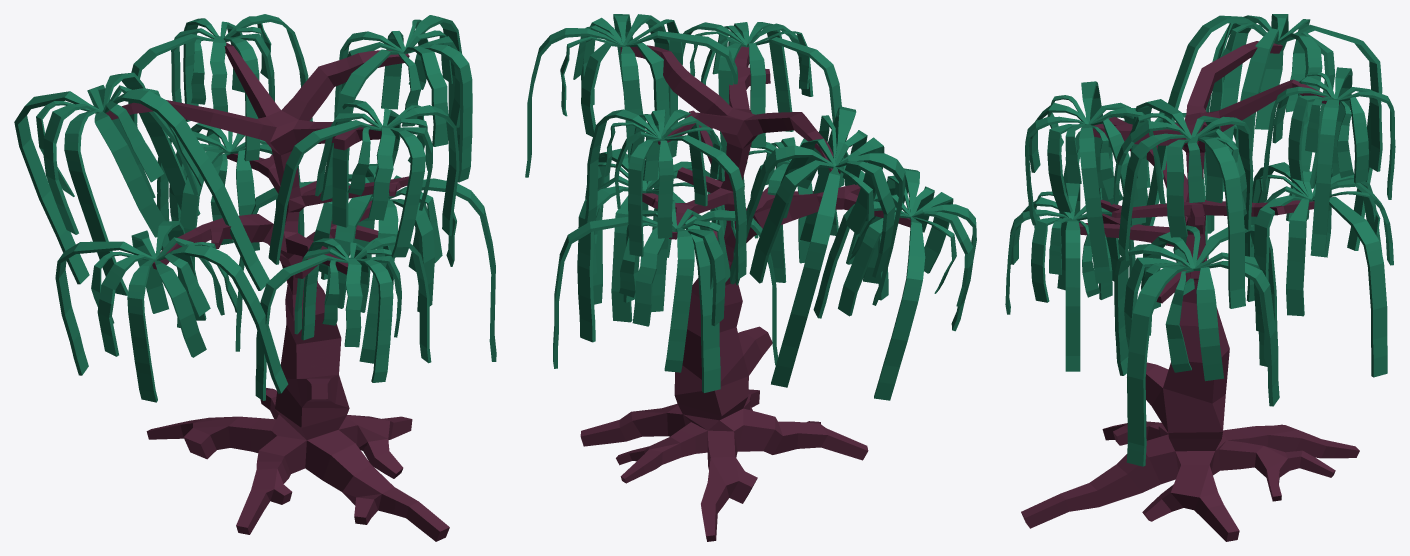
File: treeWillow_001_grp.fbx
The picture shows the model from 3 angles, left to right: view 1: azimuth 30°, elevation 25°; view 2: azimuth 150°, elevation 25°; view 3: azimuth 270°, elevation 25°; orthographic projection. The views are drawn at different scales.
Visible parts, largest first — view 1: treeWillow_001_grp; view 2: treeWillow_001_grp; view 3: treeWillow_001_grp.
Boxes of the visible parts, x1=… form: treeWillow_001_grp: x1=14, y1=14, x2=496, y2=541; treeWillow_001_grp: x1=525, y1=14, x2=976, y2=541; treeWillow_001_grp: x1=1005, y1=14, x2=1395, y2=541.
Bounding box in the file's own units: 1199 × 1205 × 1003.
